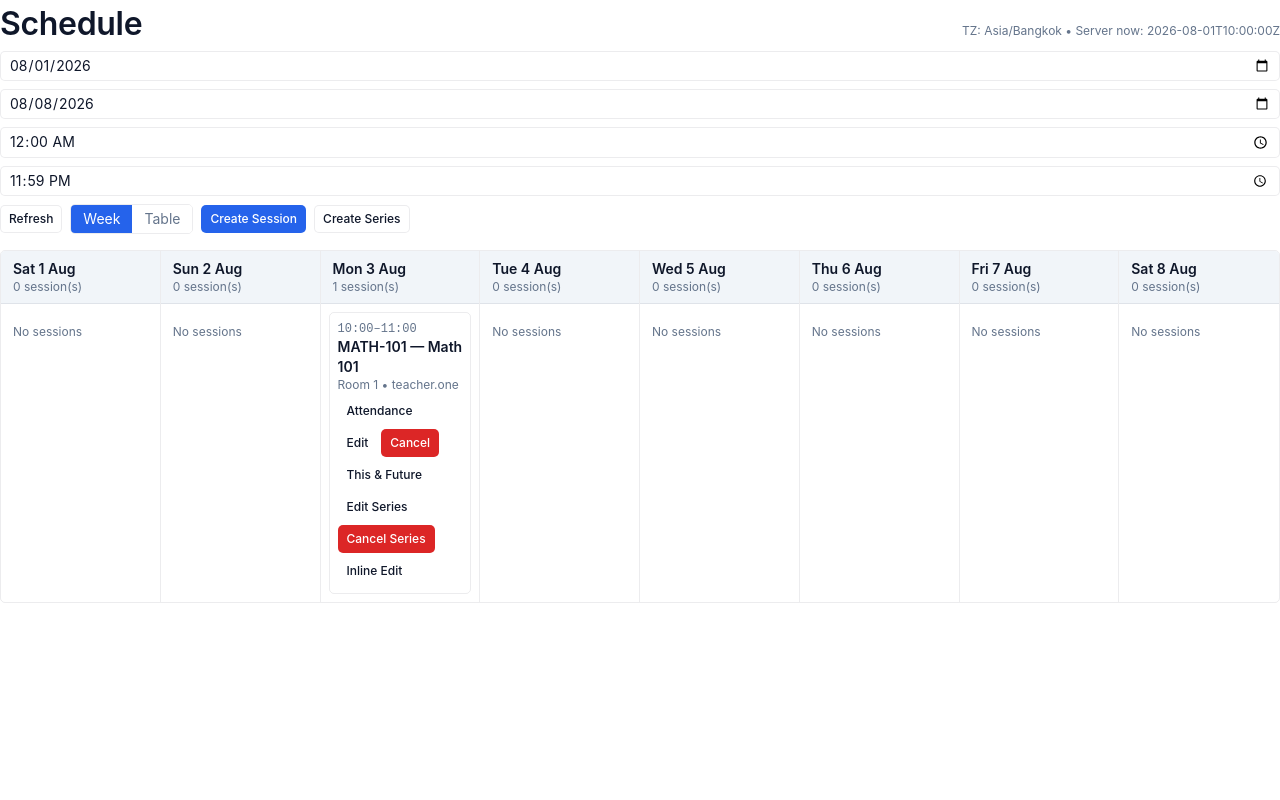
it: Schedule series edit preflight stabilization › includes the current series ID in the Edit Series preflight
Expected: the text "MATH-101 — Math 101" is shown, [338,337,462,377]
Step 1. Click the button "Edit Series" → click(377, 507), box [338,493,416,521]
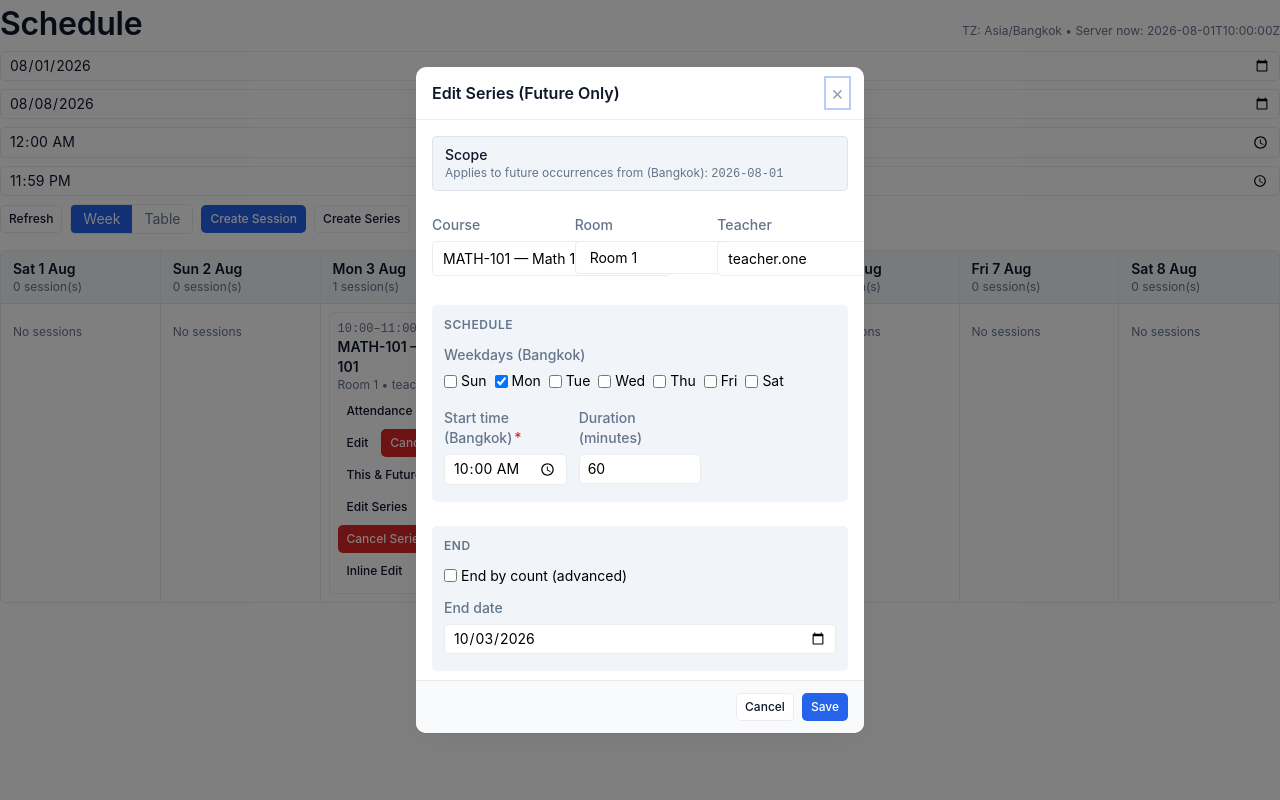
Expected: the heading "Edit Series (Future Only)" is shown, [432,81,620,105]
